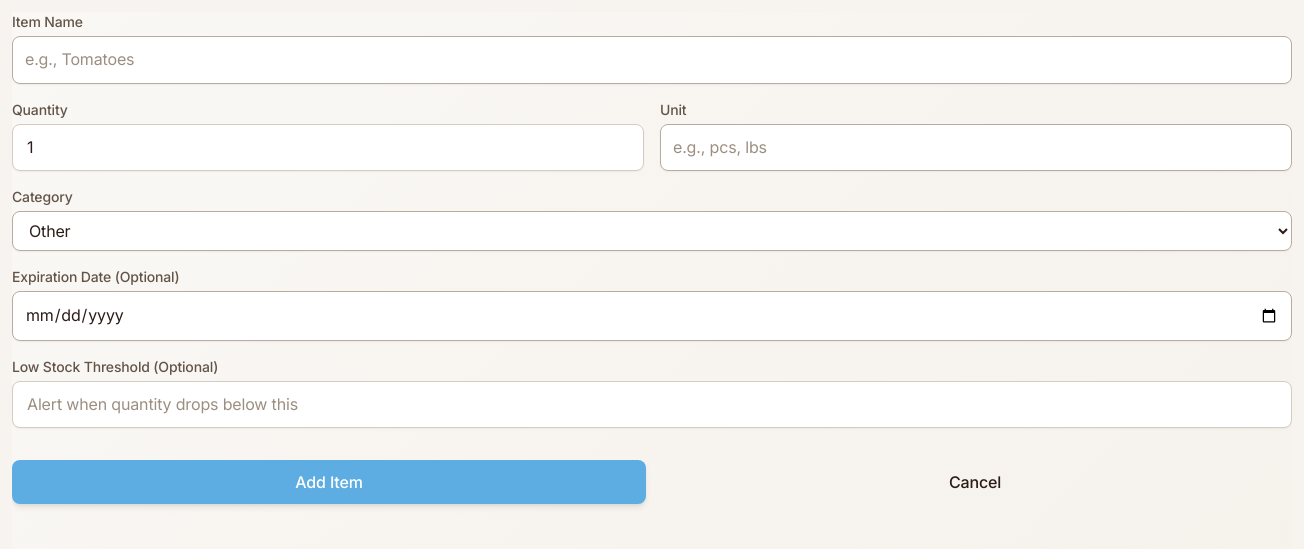
Scenario: AddPantryItemForm › shows error when submitting empty form
The width and height of the screenshot is (1304, 549).
What coordinates should you click on to do the following:
click the button "Add Item"
I would click on:
 (329, 482)
Its box is [12,460,646,504].
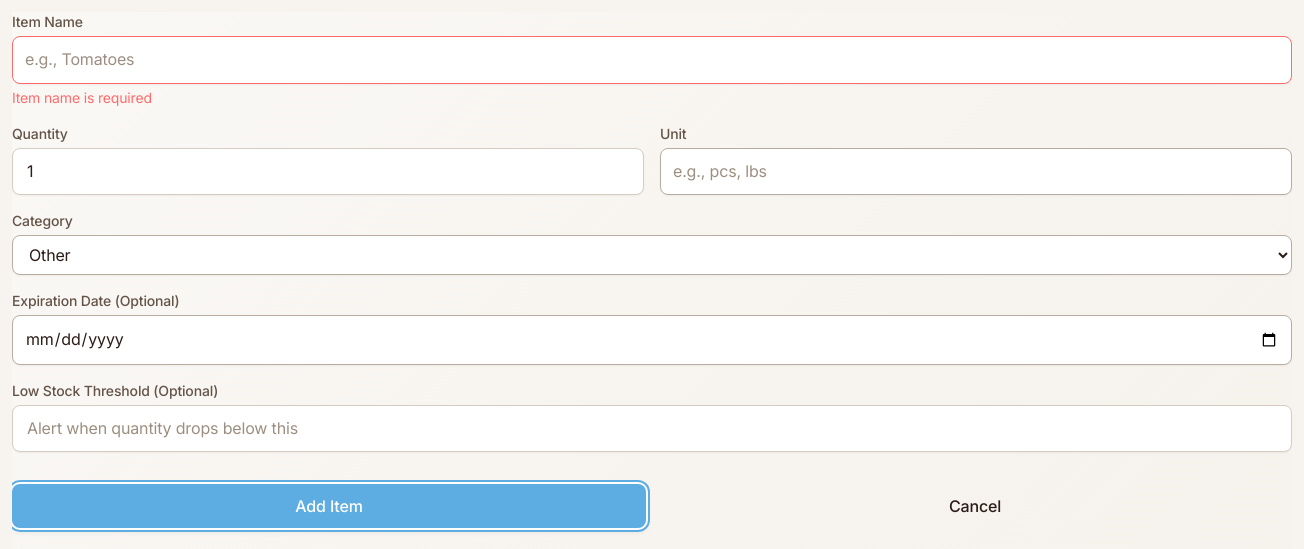
Expected: the text "Item name is required" is shown, [12,89,152,106]
